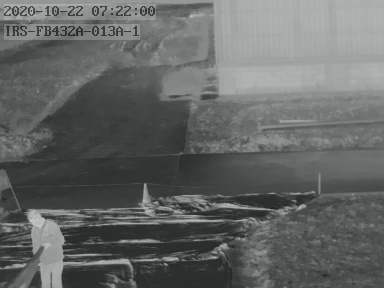person: (26, 211, 66, 288)
